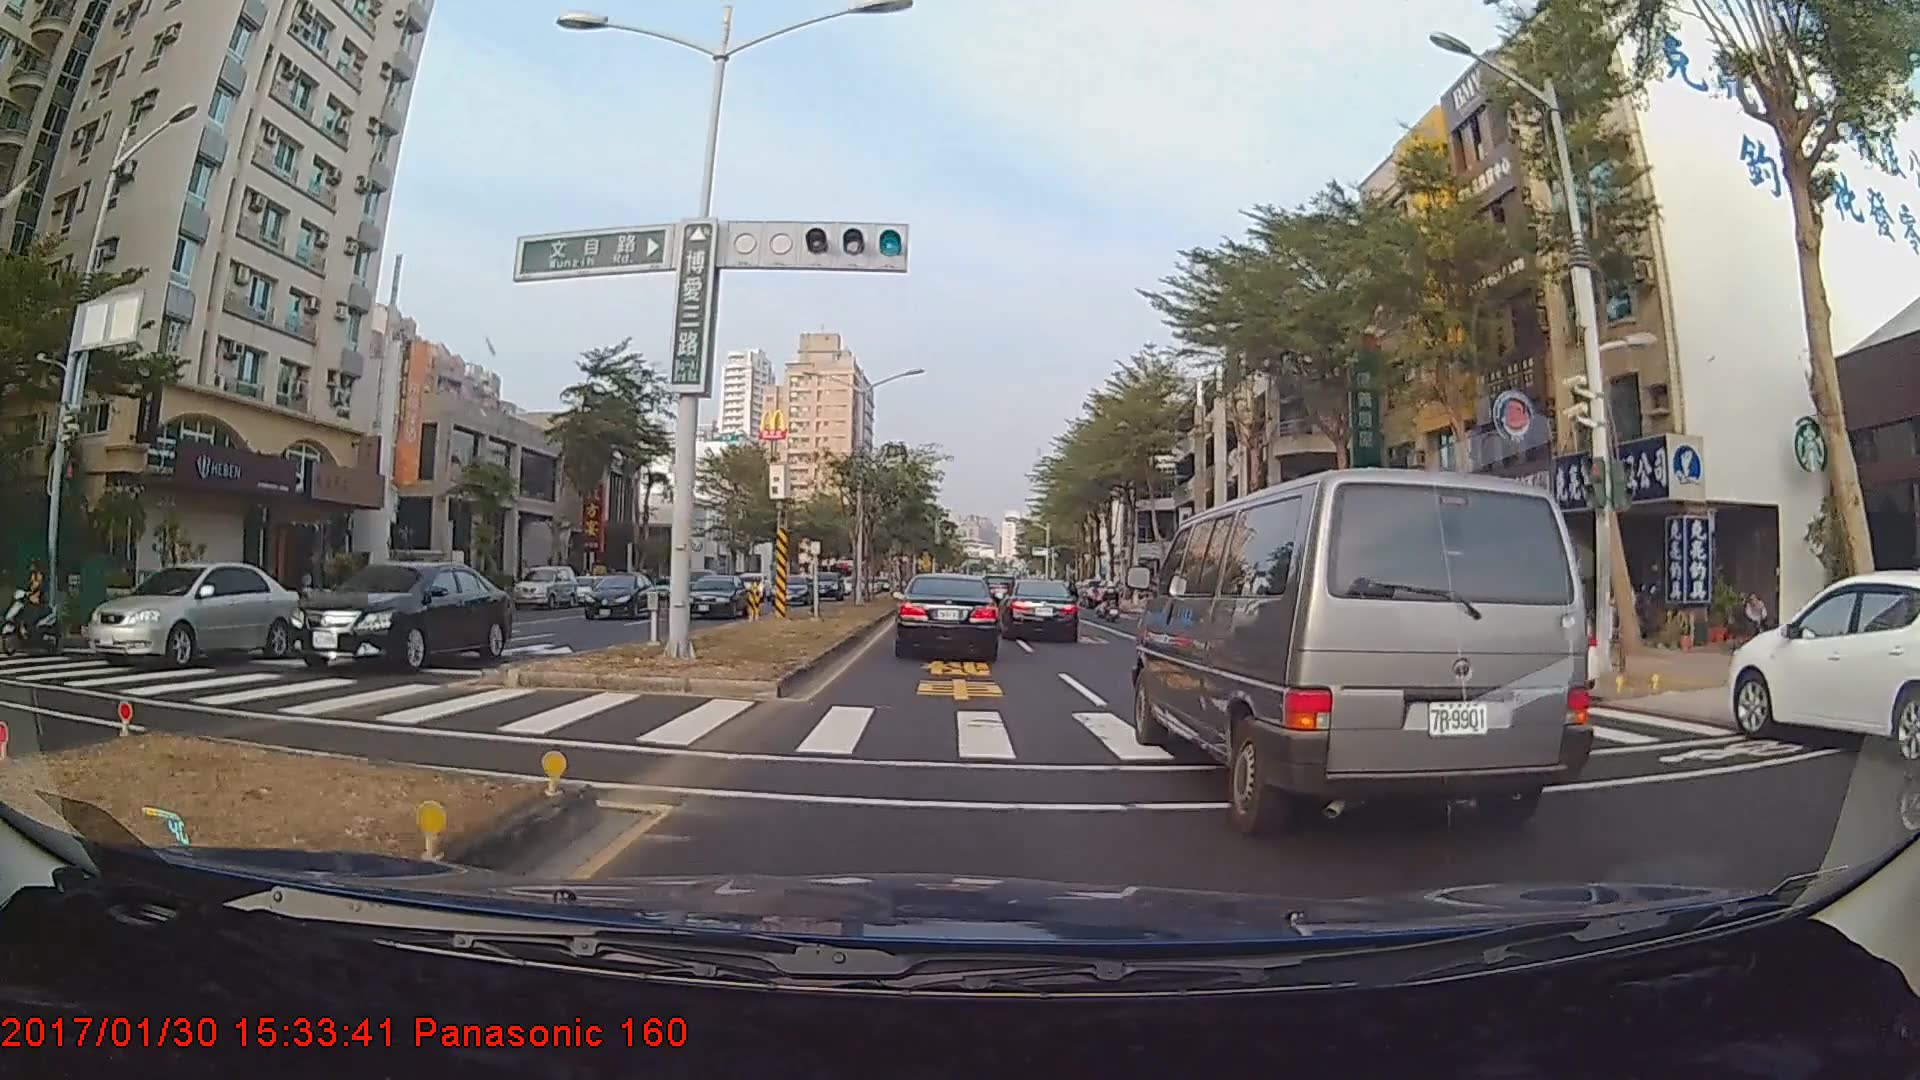rider: (10, 559, 70, 656)
vehicle: (1140, 461, 1597, 830), (1724, 570, 1918, 763), (281, 561, 514, 678), (82, 561, 297, 672), (894, 574, 1002, 660), (1000, 579, 1080, 643), (581, 571, 654, 622), (678, 572, 749, 620), (514, 563, 577, 608), (767, 576, 812, 607)
